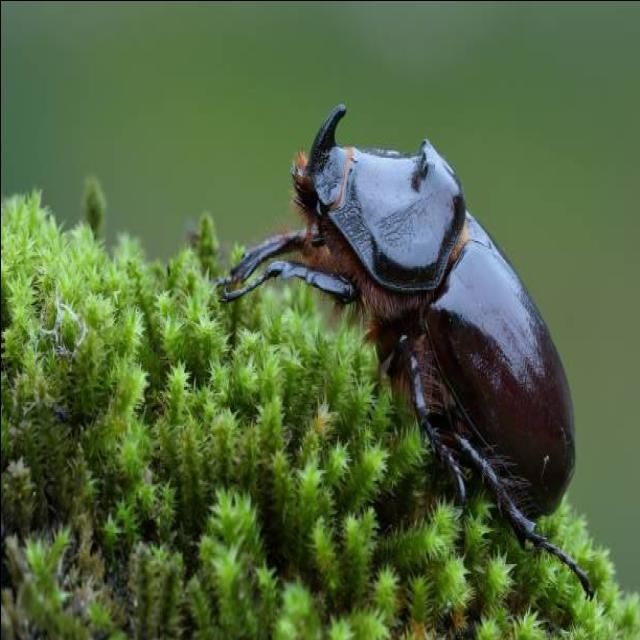Rhino-beetle: (215, 96, 584, 533)
